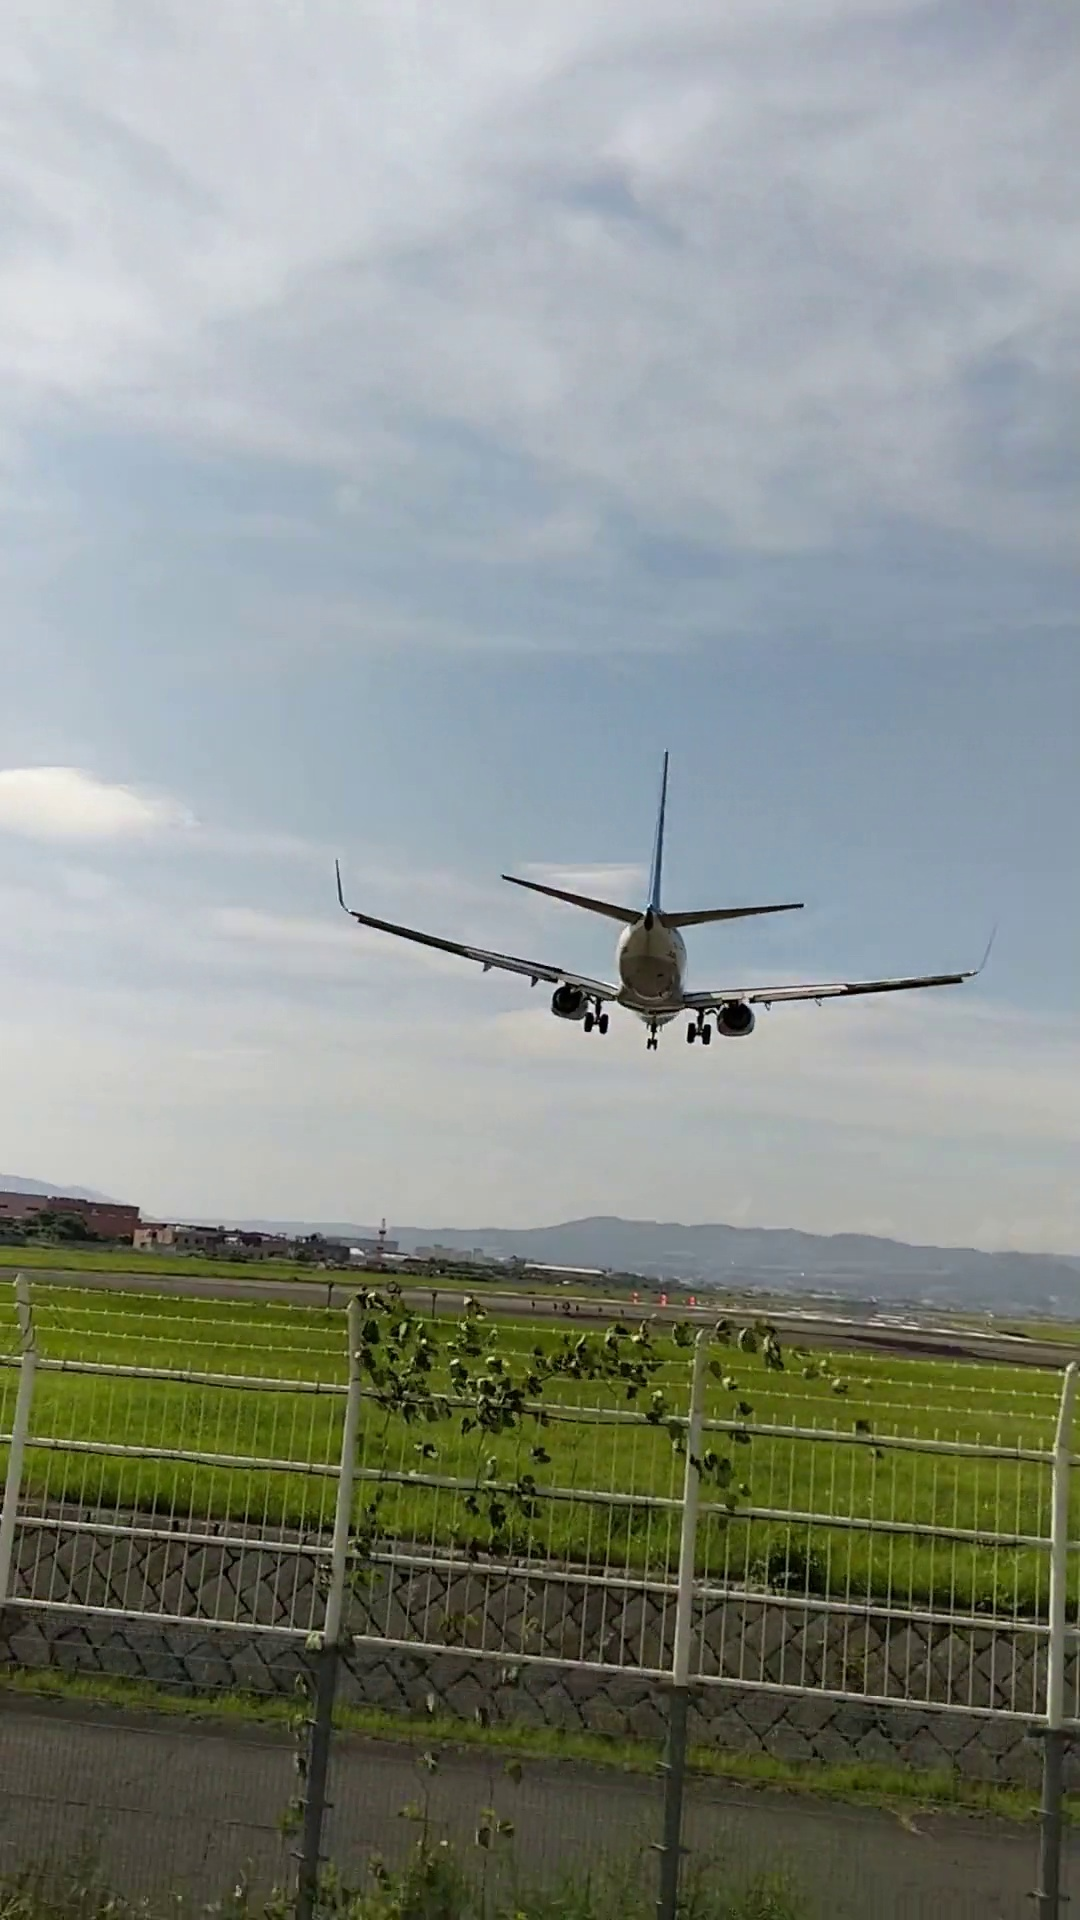plane: (335, 748, 997, 1051)
